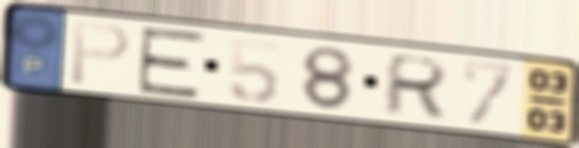5: (225, 34, 283, 105)
7: (460, 56, 515, 128)
8: (296, 45, 359, 111)
E: (134, 25, 210, 101)
P: (67, 19, 134, 88)
R: (378, 52, 453, 120)
